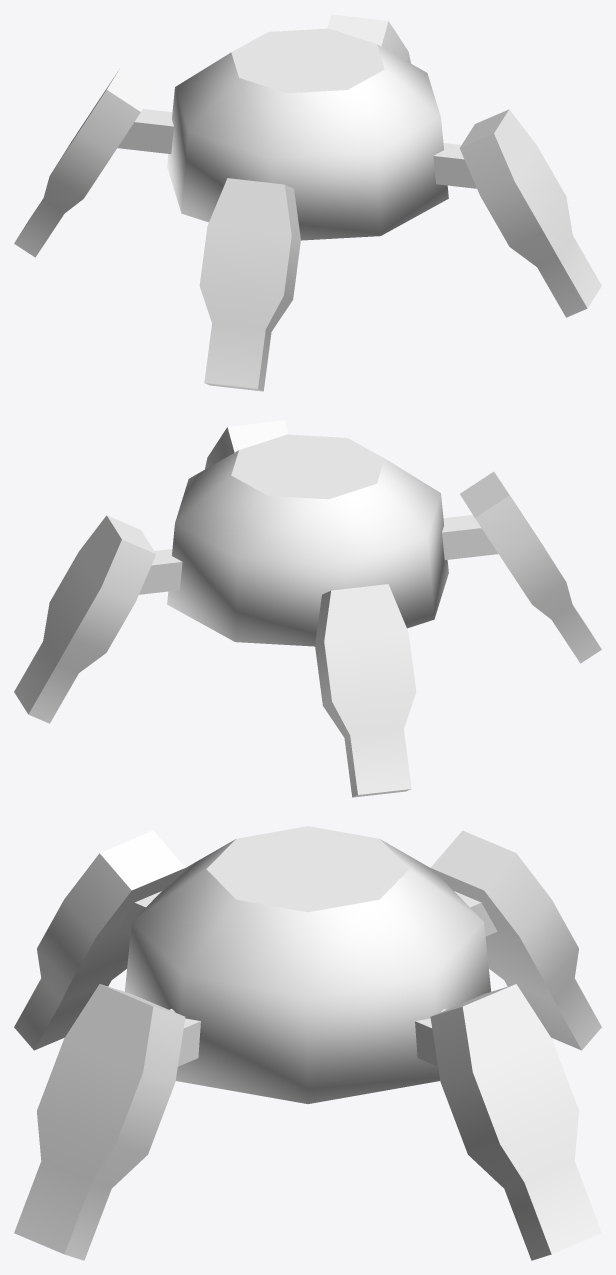
Rendered from mine_skin.FBX.
3 views of the same model, one above another, from view 1: azimuth 30°, elevation 25°; view 2: azimuth 150°, elevation 25°; view 3: azimuth 270°, elevation 25° (orthographic). The views are drawn at different scales.
Visible parts, largest first — view 1: Cylinder001; view 2: Cylinder001; view 3: Cylinder001.
Part boxes in pixels (left/top/right/bottom): Cylinder001: left=14, top=14, right=601, bottom=391; Cylinder001: left=14, top=420, right=601, bottom=797; Cylinder001: left=14, top=826, right=601, bottom=1260.
Bounding box in the file's own units: 109 × 109 × 56.44.
Materials: 1 (1 with a texture image).
